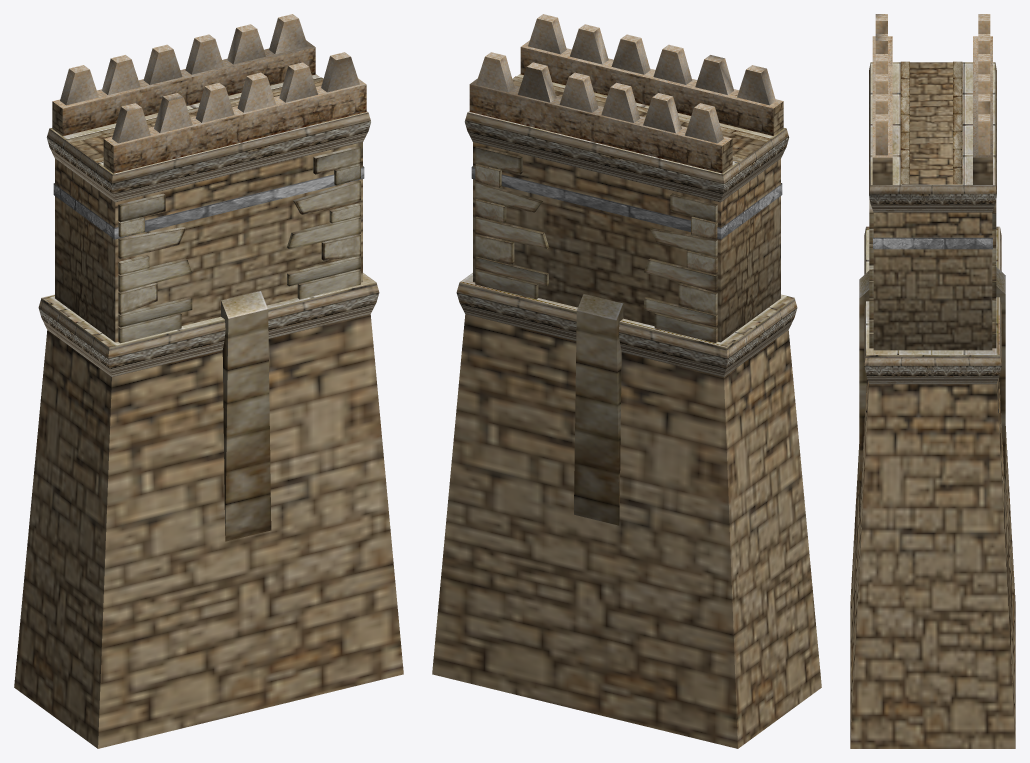
File: s_seleucids_wall_short.glb
The picture shows the model from 3 angles, left to right: view 1: azimuth 30°, elevation 25°; view 2: azimuth 150°, elevation 25°; view 3: azimuth 270°, elevation 25°; orthographic projection.
Visible parts, largest first — view 1: s_seleucids_wall_short_part0; view 2: s_seleucids_wall_short_part0; view 3: s_seleucids_wall_short_part0.
Boxes of the visible parts, box(x1,y1,x2,y2) form: s_seleucids_wall_short_part0: box(14, 14, 403, 748); s_seleucids_wall_short_part0: box(432, 14, 821, 748); s_seleucids_wall_short_part0: box(850, 14, 1015, 748).
Size of the model in its own units: 3.4 by 6.57 by 1.62.
Materials: 1 (1 with a texture image).
